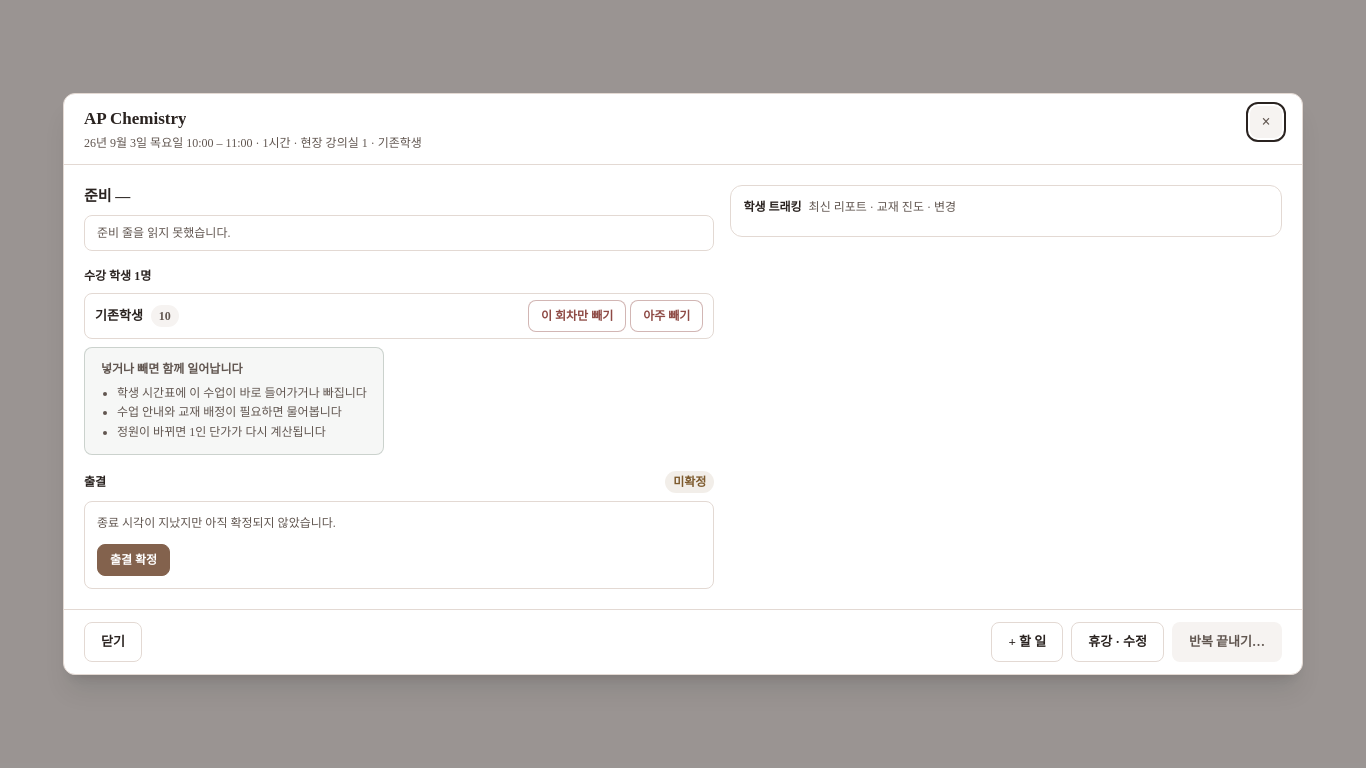
Test: LessonDetail 명단 결과 › 휴강 창을 연 채 권한을 잃으면 창도 사라진다
Click the button "휴강 · 수정" at (1118, 642), box [1071,622,1164,662]
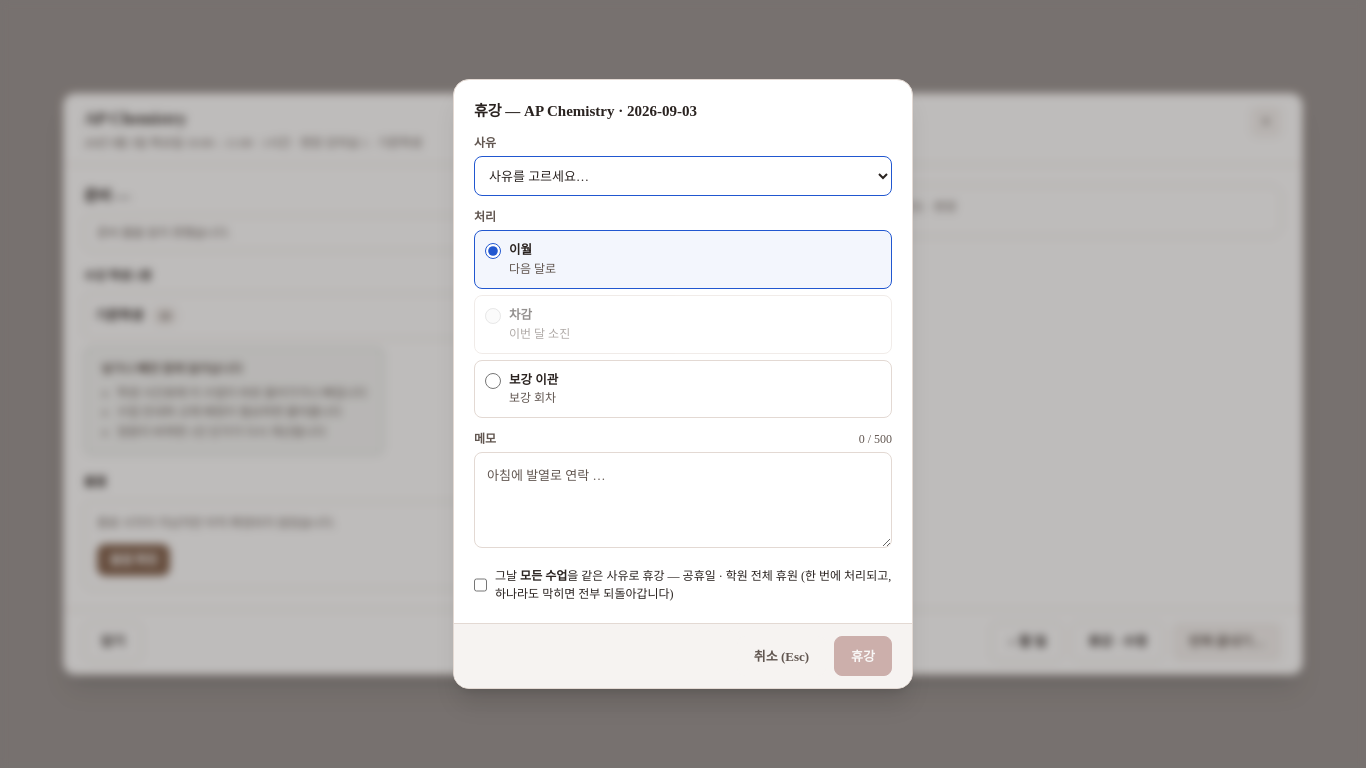
expect the dialog "휴강 — " is shown: met, box [453,79,913,689]
